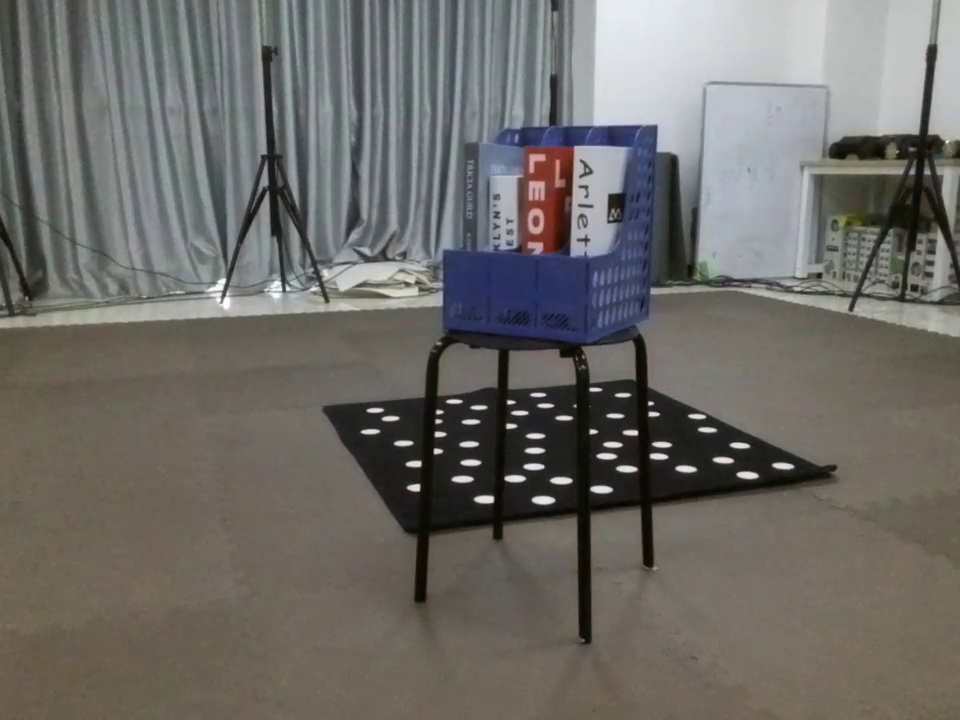files: (438, 118, 657, 340)
